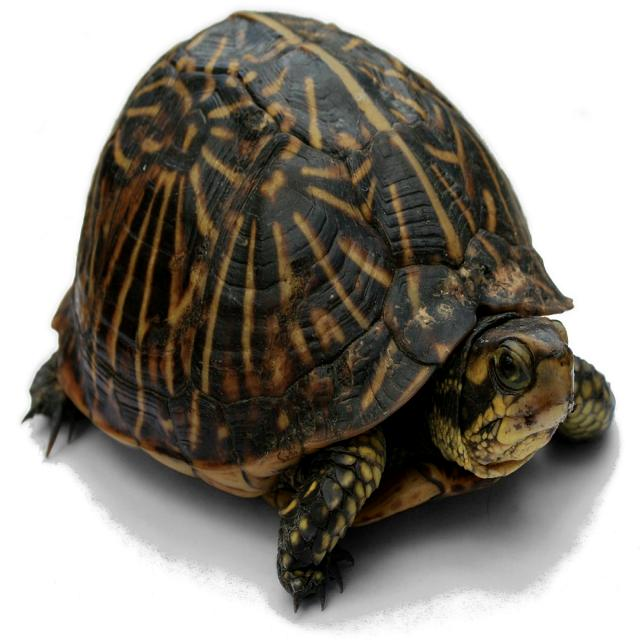Sea turtle: (21, 3, 623, 621)
